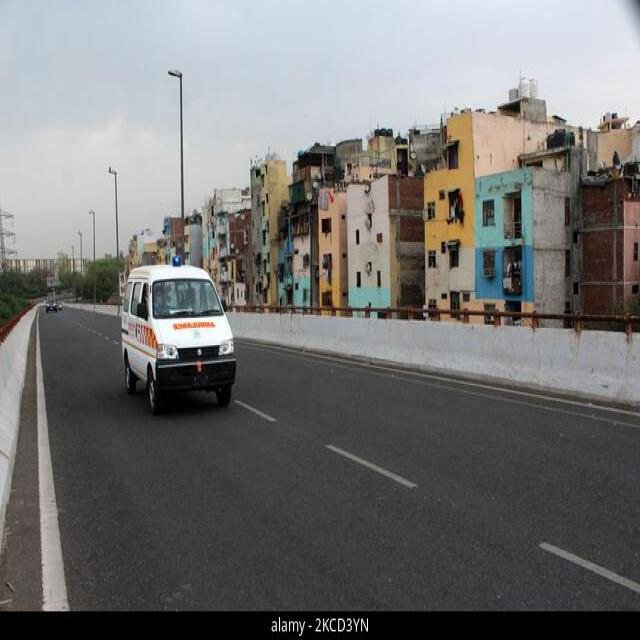emergency: (121, 258, 236, 412)
